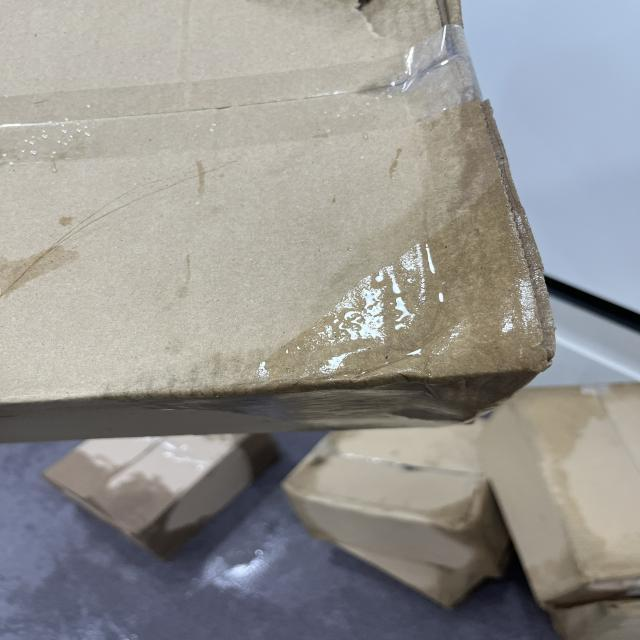wet: (268, 141, 545, 429)
